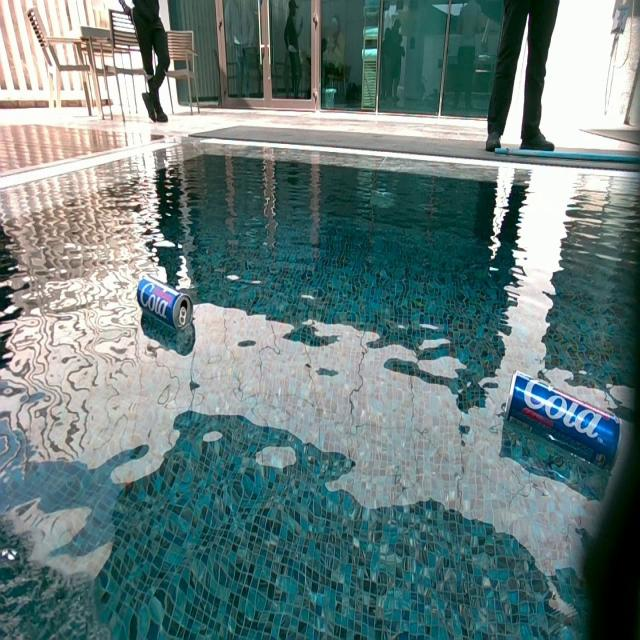Cans: (504, 373, 634, 467), (139, 281, 195, 332)
